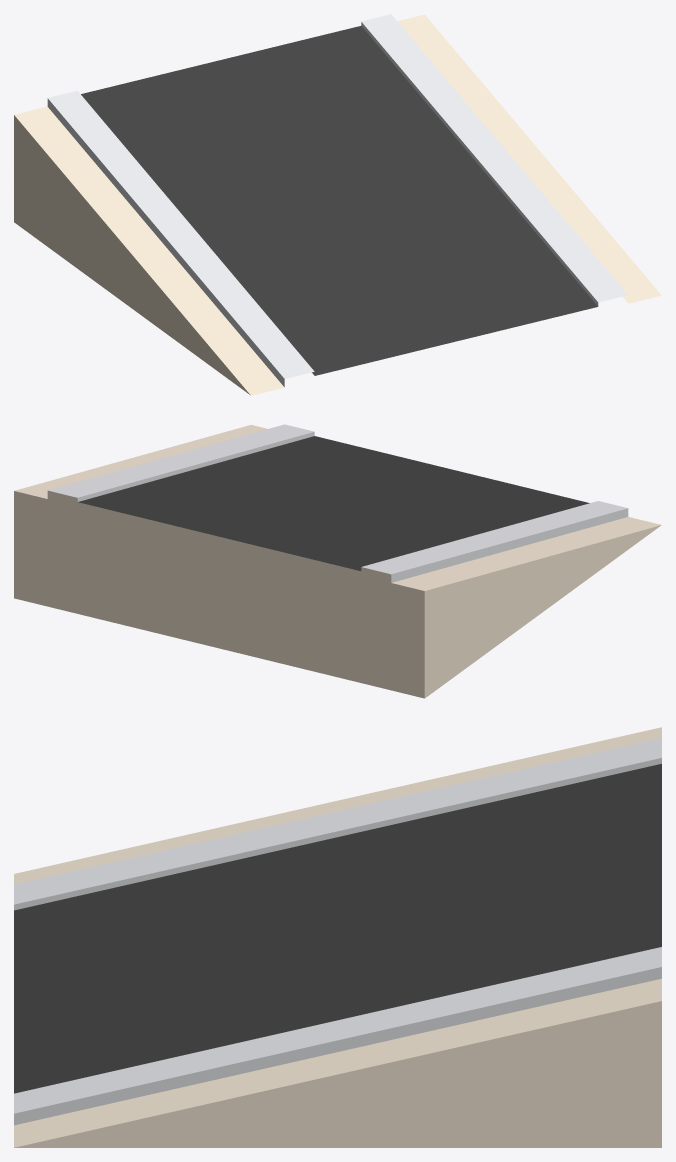
Rendered from roadRampWall.glb.
3 views of the same model, one above another, from view 1: azimuth 30°, elevation 25°; view 2: azimuth 150°, elevation 25°; view 3: azimuth 270°, elevation 25° (orthographic). The views are drawn at different scales.
Visible parts, largest first — view 1: roadRampWall(Clone); view 2: roadRampWall(Clone); view 3: roadRampWall(Clone).
Part boxes in pixels (x1,y1,x2,y2): roadRampWall(Clone): (14,14,661,395); roadRampWall(Clone): (14,424,661,698); roadRampWall(Clone): (14,727,661,1147).
Bounding box in the file's own units: 1 × 0.27 × 1.
